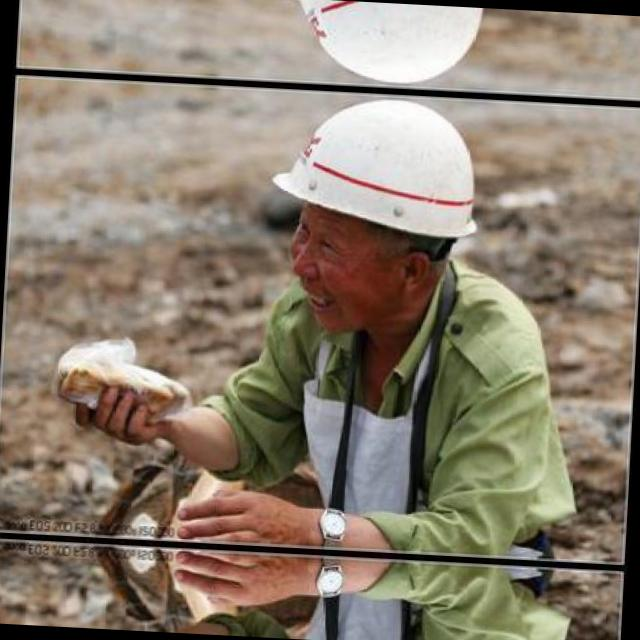helmet: (253, 90, 500, 346), (265, 0, 505, 92)
